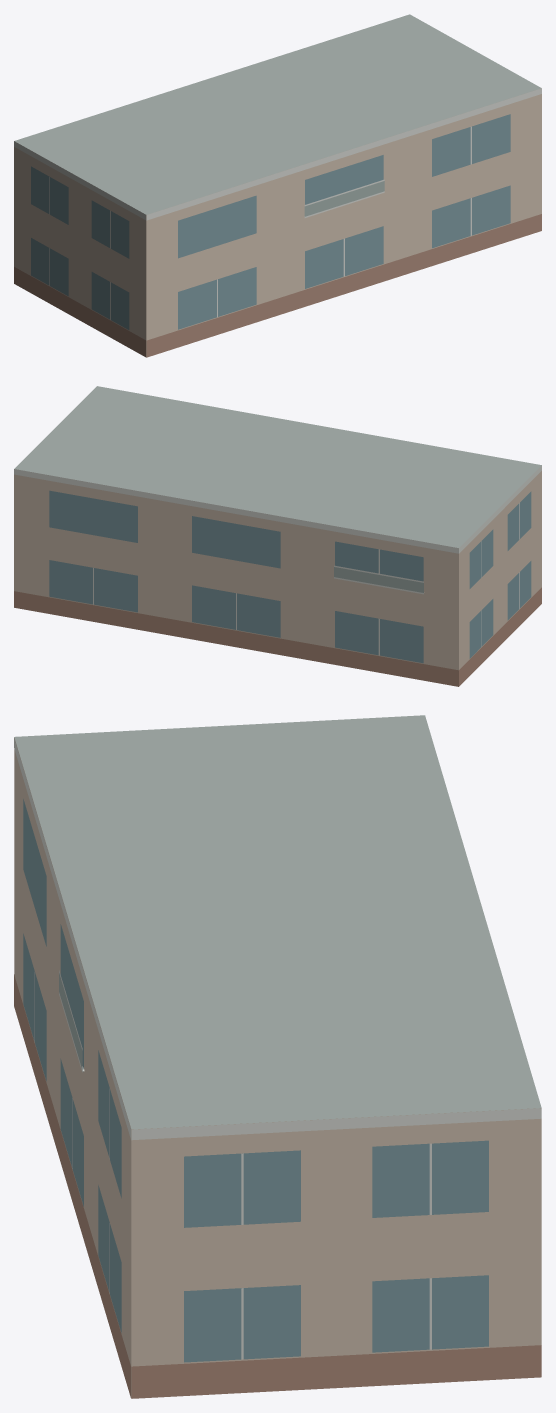
Rendered from survey-upis-32940083.glb.
The picture shows the model from 3 angles, top to bottom: view 1: azimuth 30°, elevation 25°; view 2: azimuth 150°, elevation 25°; view 3: azimuth 270°, elevation 25°; orthographic projection. The views are drawn at different scales.
Visible parts, largest first — view 1: survey-upis-32940083.tmp; view 2: survey-upis-32940083.tmp; view 3: survey-upis-32940083.tmp.
Part boxes in pixels (bbox=[...]): survey-upis-32940083.tmp: bbox=[14, 14, 541, 357]; survey-upis-32940083.tmp: bbox=[14, 386, 541, 686]; survey-upis-32940083.tmp: bbox=[14, 715, 541, 1398].
Bounding box in the file's own units: 20.14 × 6.1 × 10.84.
